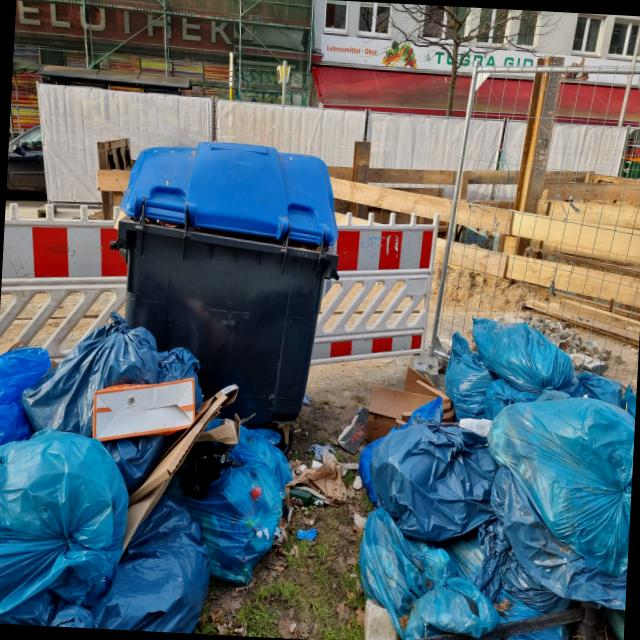garbage: (0, 307, 304, 637), (355, 297, 640, 640)
